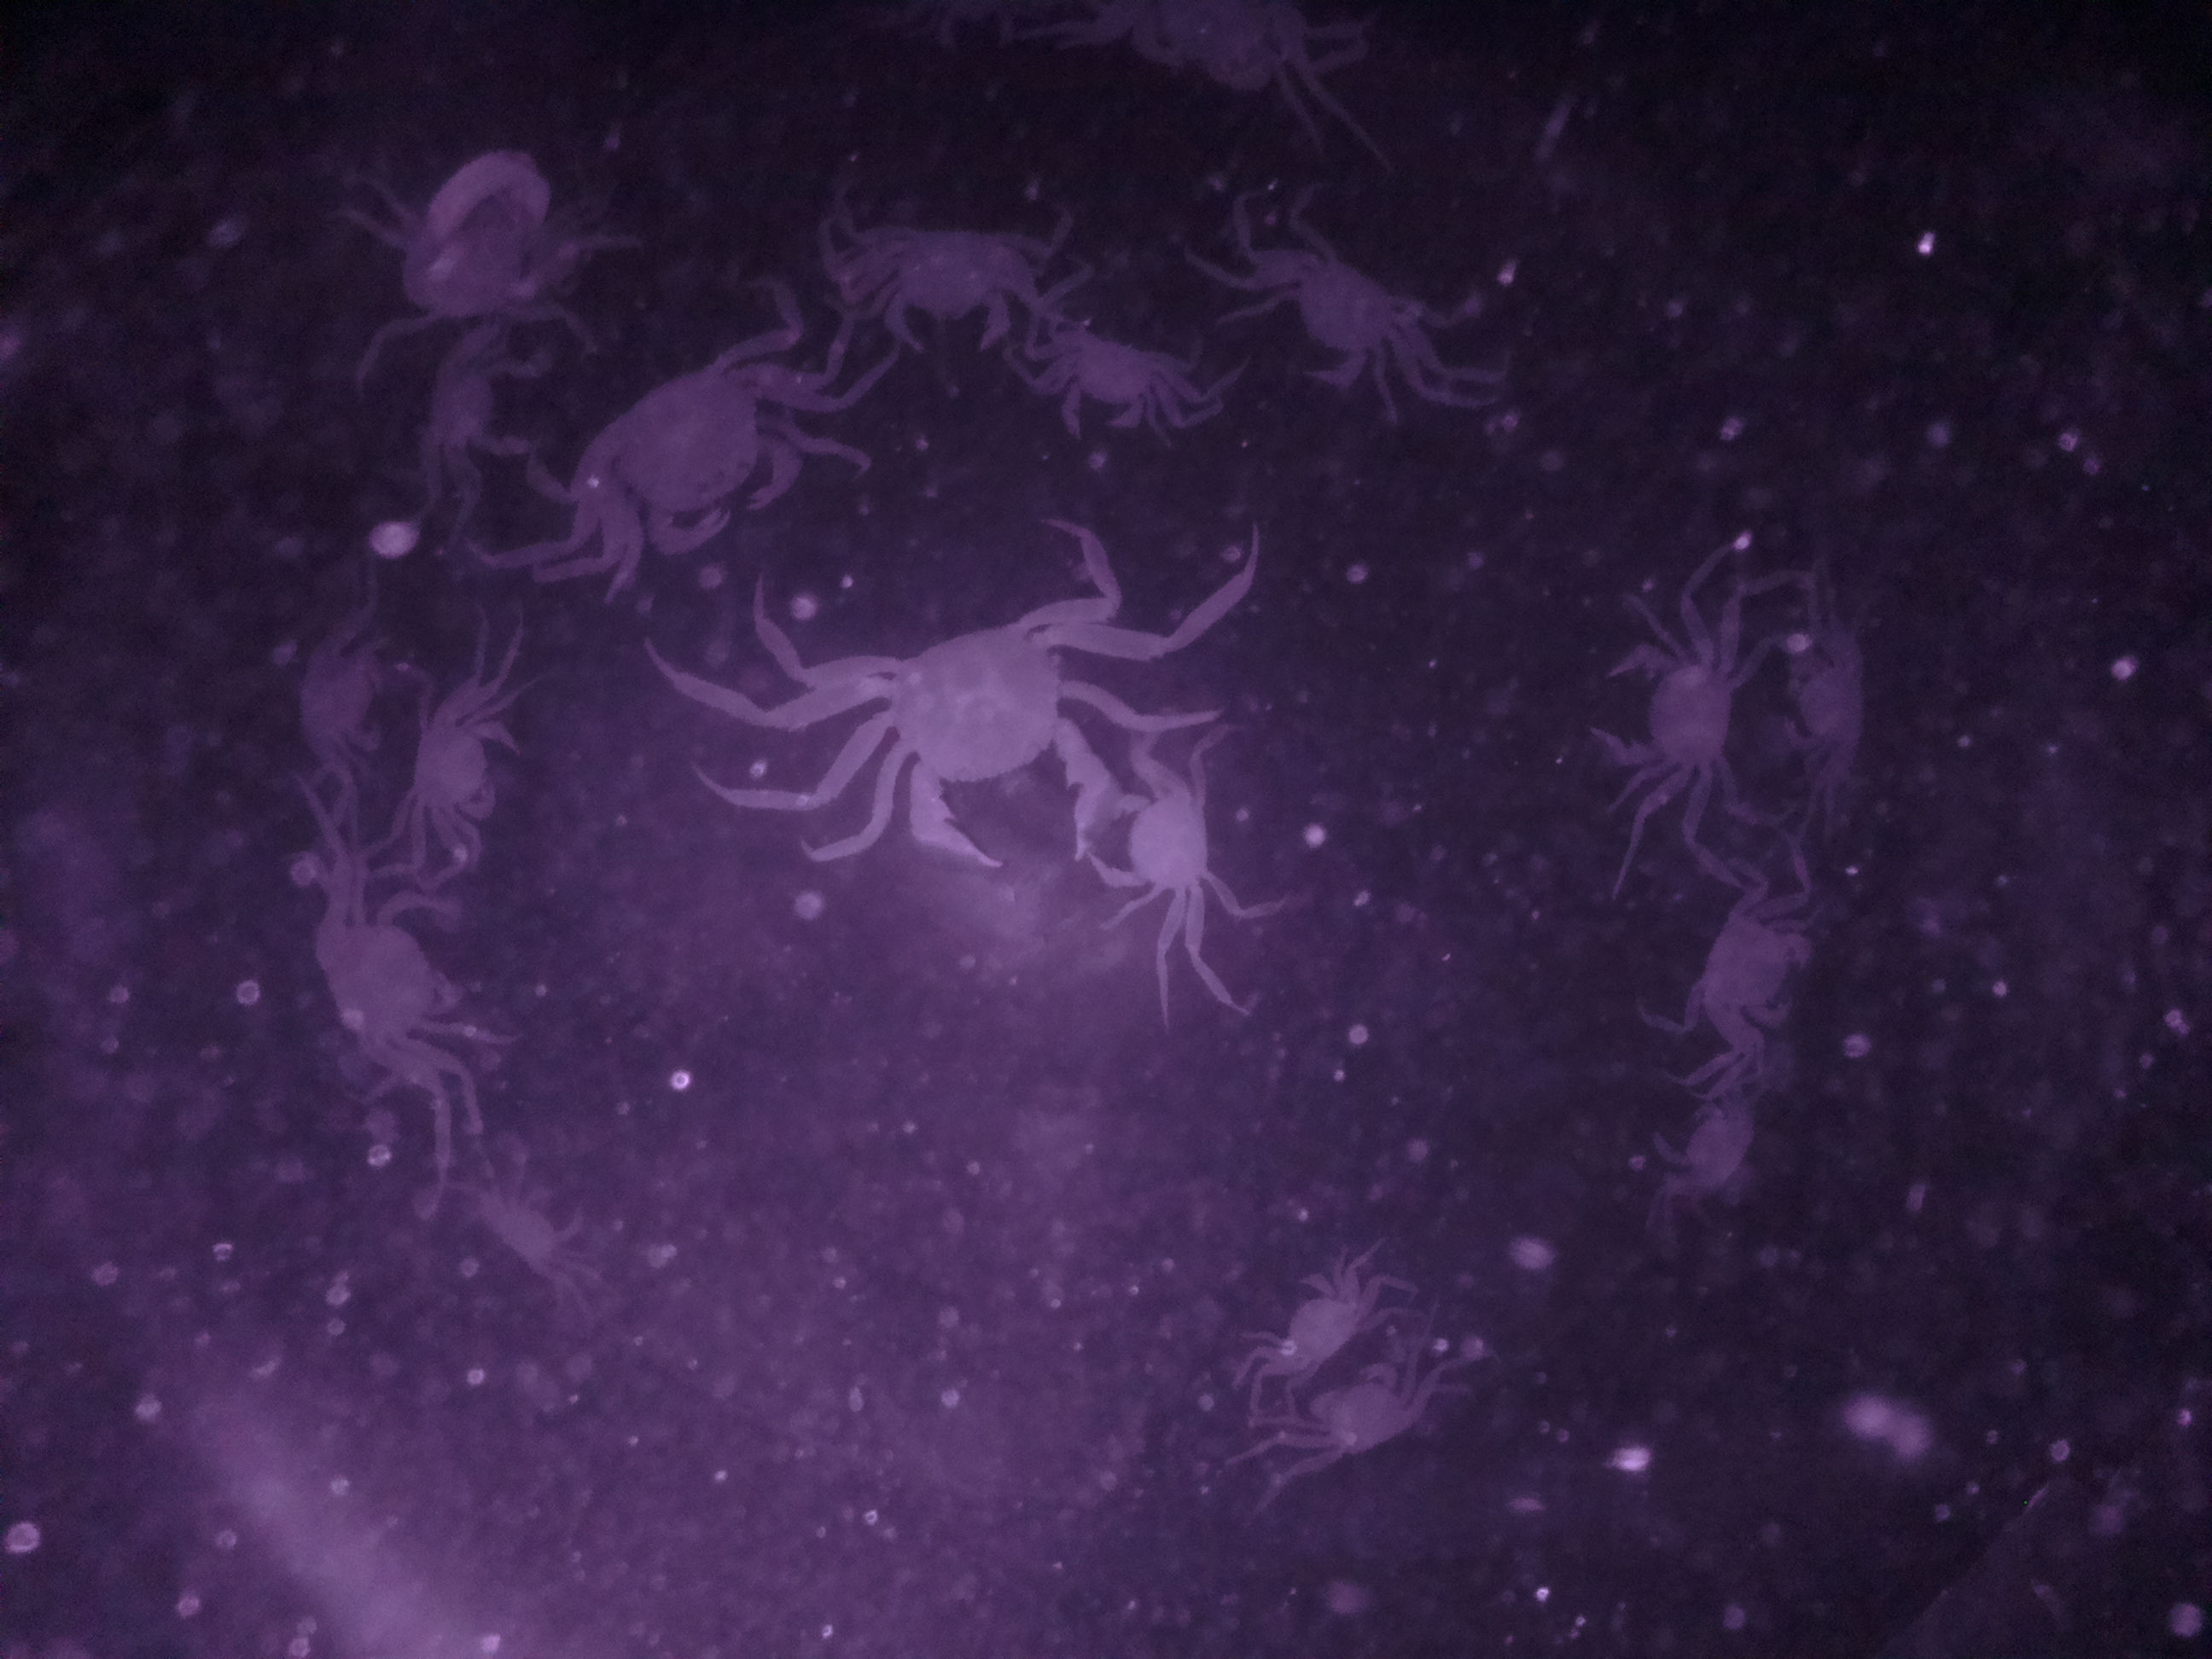Crab: (836, 594, 1122, 875), (571, 340, 817, 580), (307, 871, 474, 1087), (1583, 612, 1754, 810), (1655, 903, 1829, 1053), (1244, 235, 1404, 397), (1096, 755, 1247, 925), (843, 218, 1031, 347), (1031, 315, 1198, 450), (1275, 1338, 1433, 1478), (1244, 1243, 1371, 1392), (1644, 1079, 1771, 1216), (406, 692, 529, 831)
